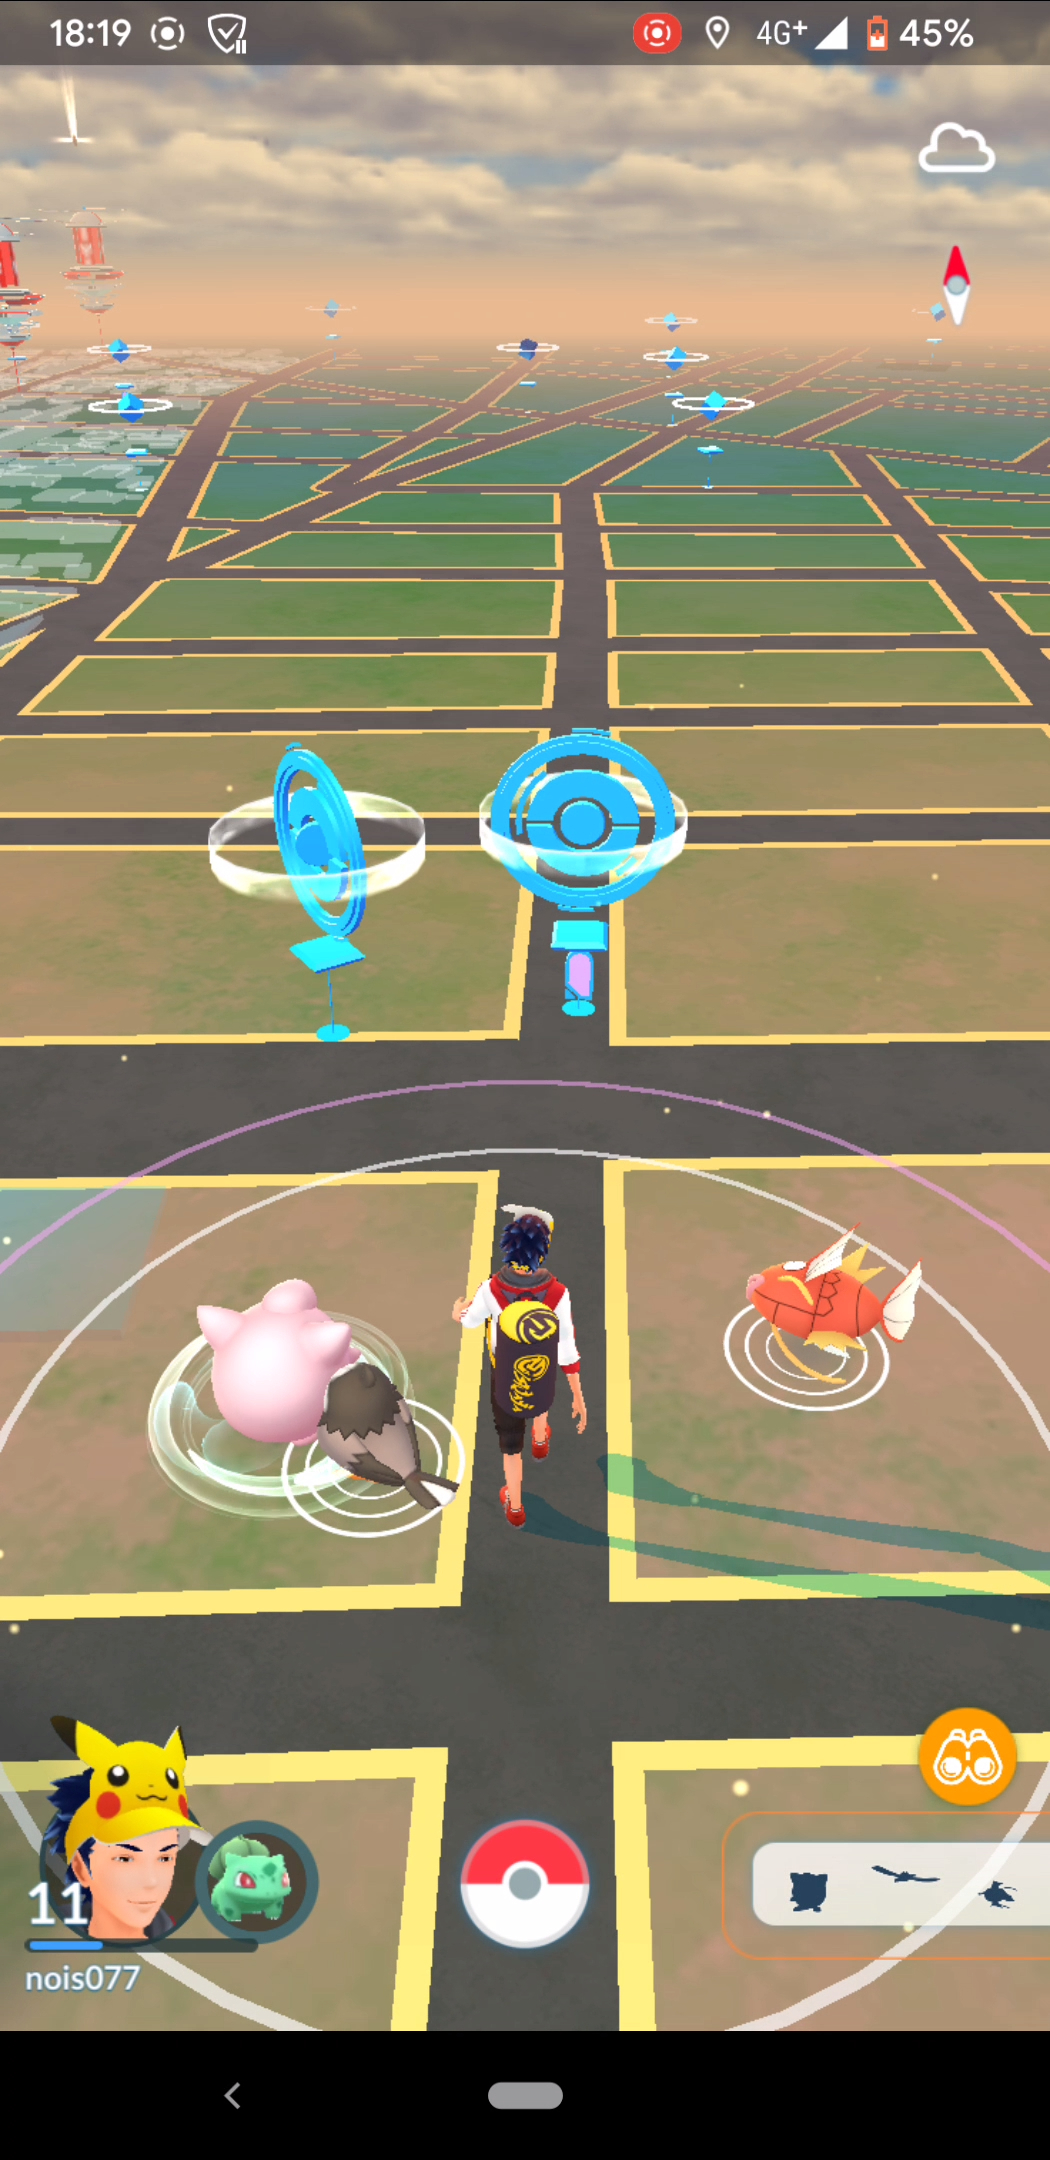pokestop: (480, 725, 682, 916), (260, 737, 373, 941)
